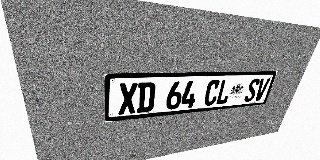4: (180, 81, 199, 109)
6: (165, 81, 184, 110)
C: (203, 80, 221, 106)
D: (137, 82, 156, 113)
L: (215, 79, 233, 105)
S: (243, 78, 261, 102)
V: (253, 78, 270, 101)
X: (118, 83, 138, 115)
